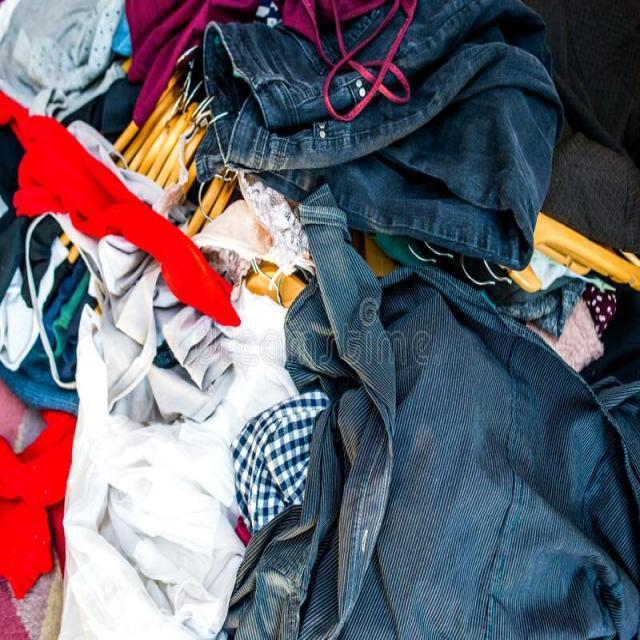clothes: (49, 96, 492, 591)
